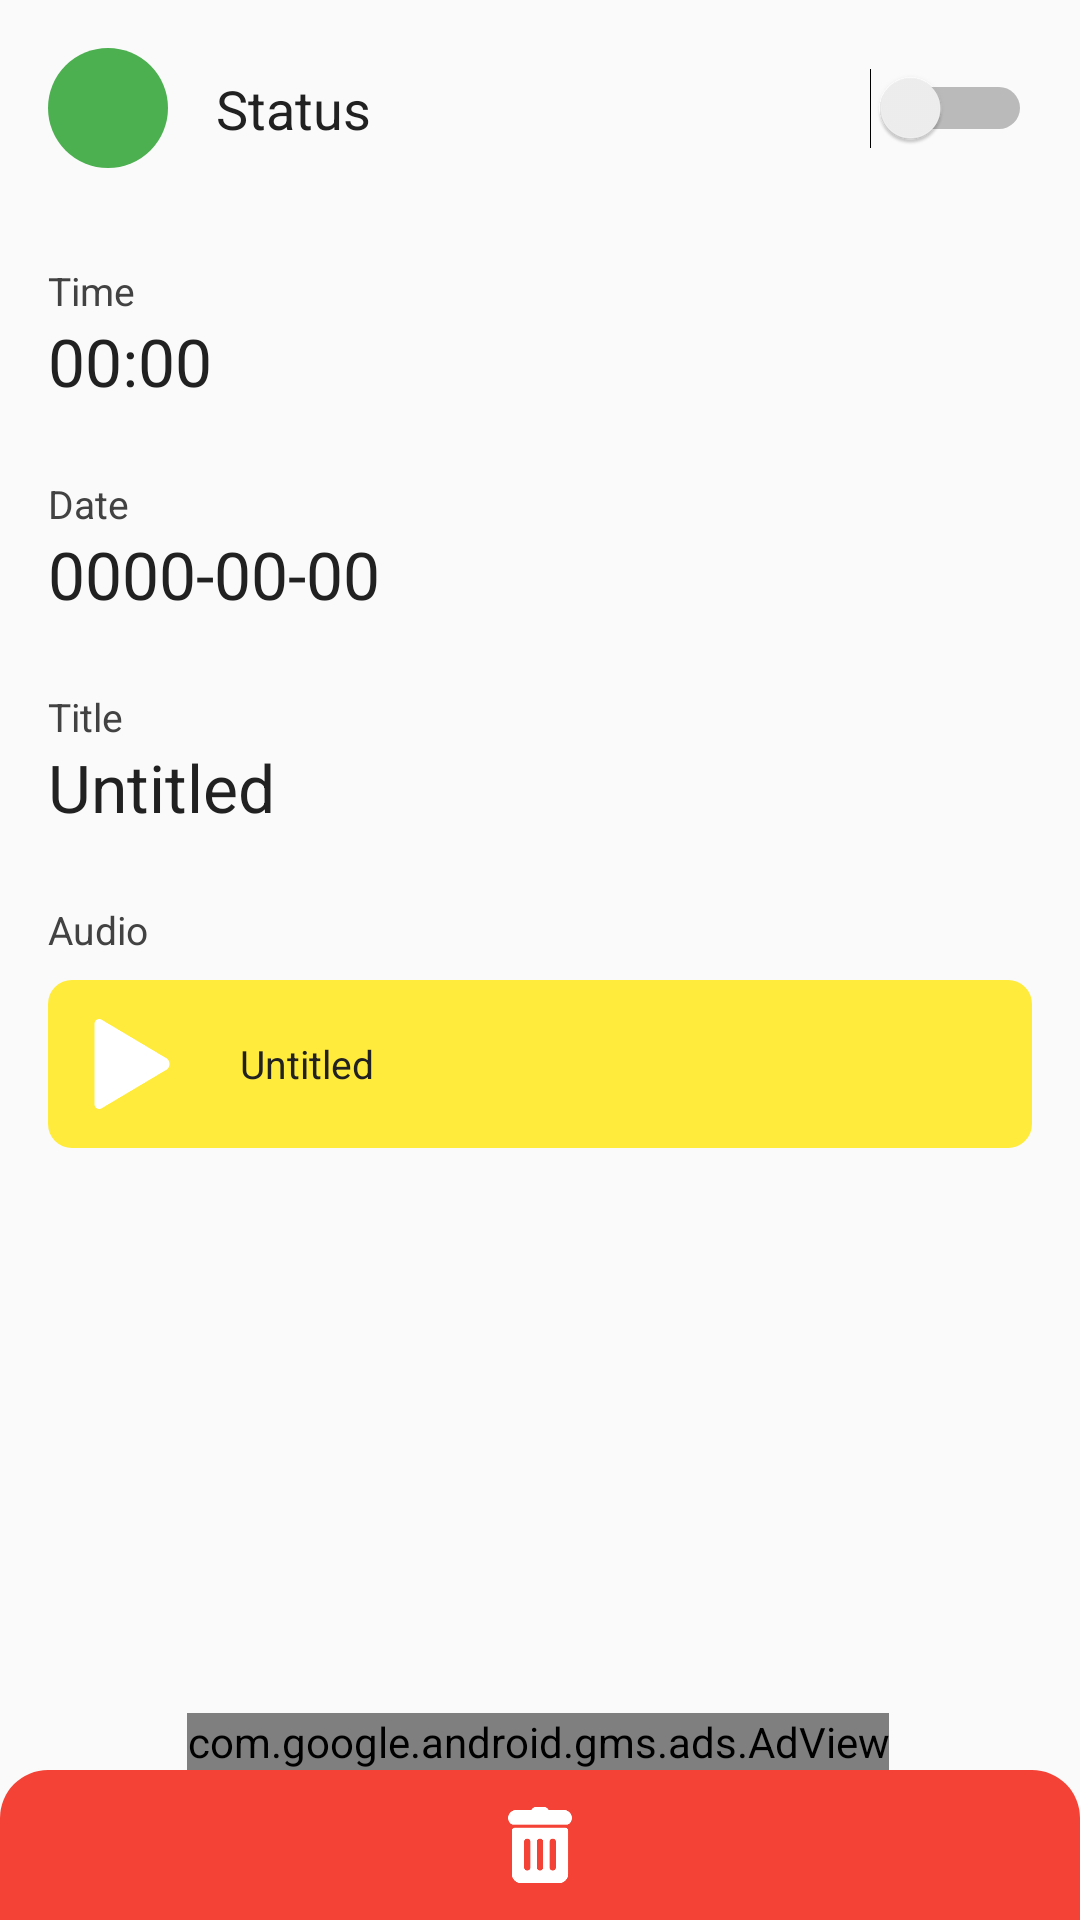

Icons on this 1080x1920 Android screen, each with the point to tap as (x,y):
play: (132,1064)
